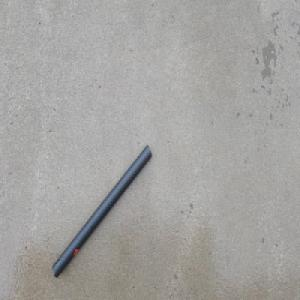LuggagePart: (51, 142, 153, 277)
